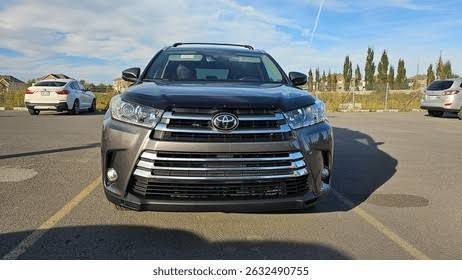car: (95, 41, 334, 208), (25, 78, 97, 115), (420, 77, 462, 117), (23, 84, 73, 115)
